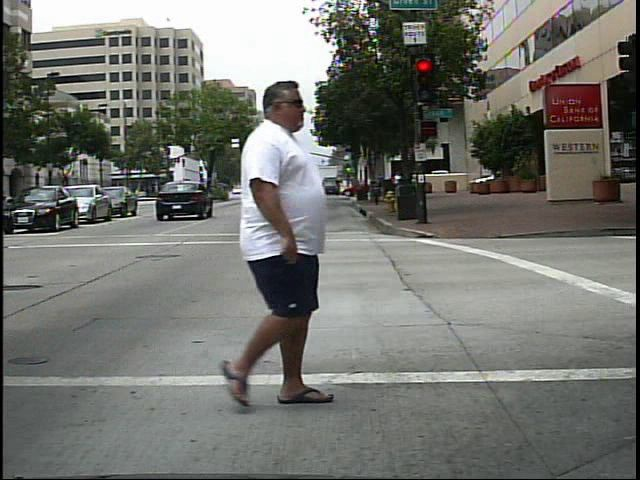person: (192, 76, 341, 413)
